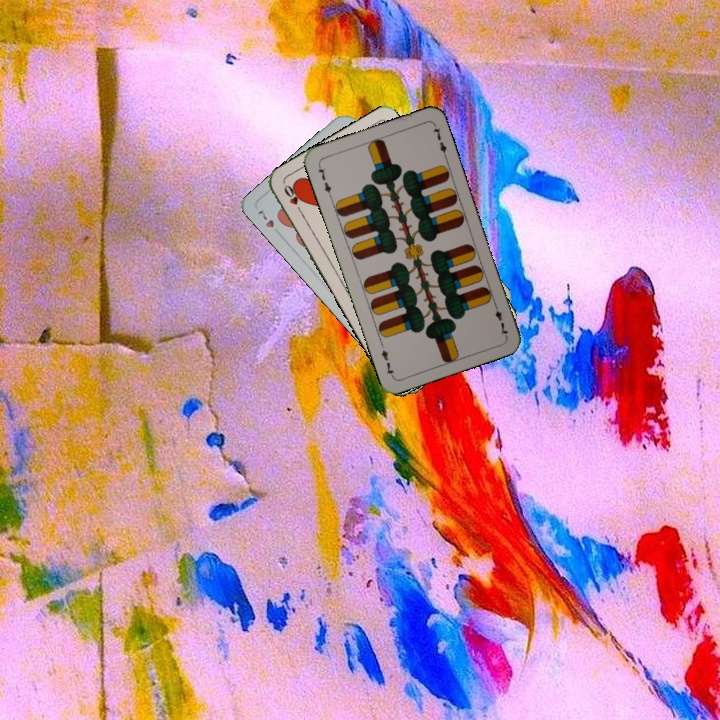E7: (490, 299, 510, 339), (314, 161, 334, 200)
H7: (254, 206, 284, 239)
HO: (280, 180, 306, 218)
